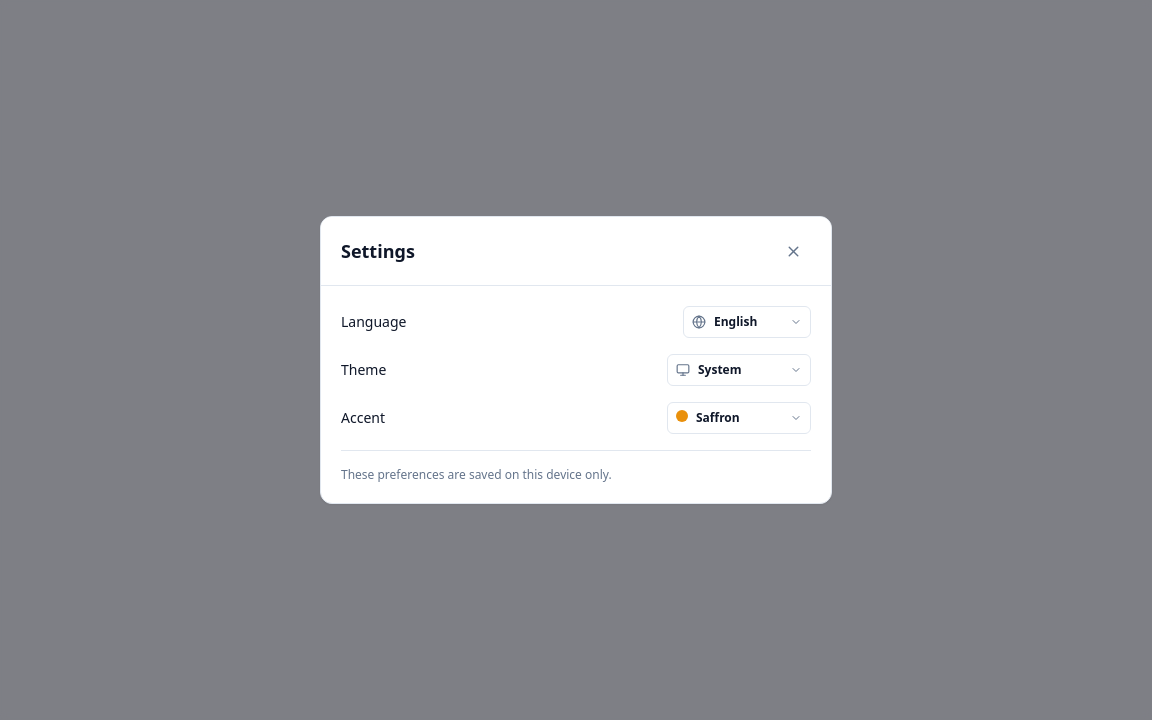
Scenario: SettingsDialog › applies a locale chosen inside the dialog
The image size is (1152, 720).
Step 1. Click the button with aria-label "Language: English" → [747, 322], box [683,306,811,338]
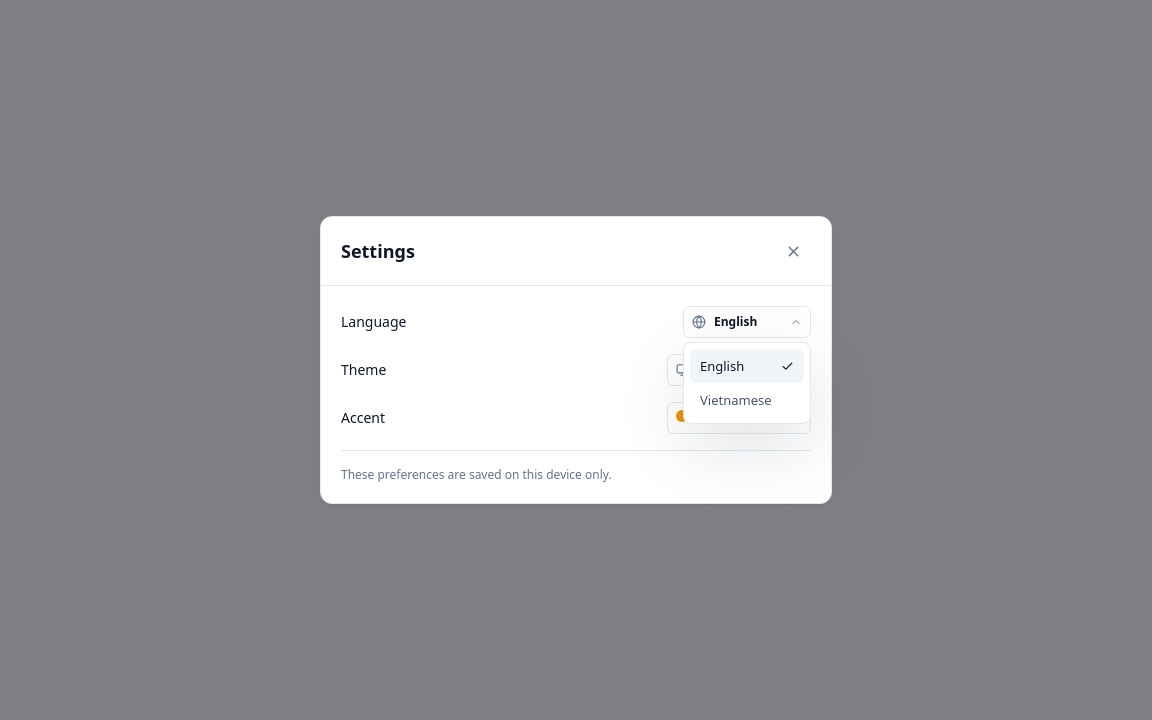
Step 2. Click the option "Vietnamese" → [747, 400], box [690,383,804,417]
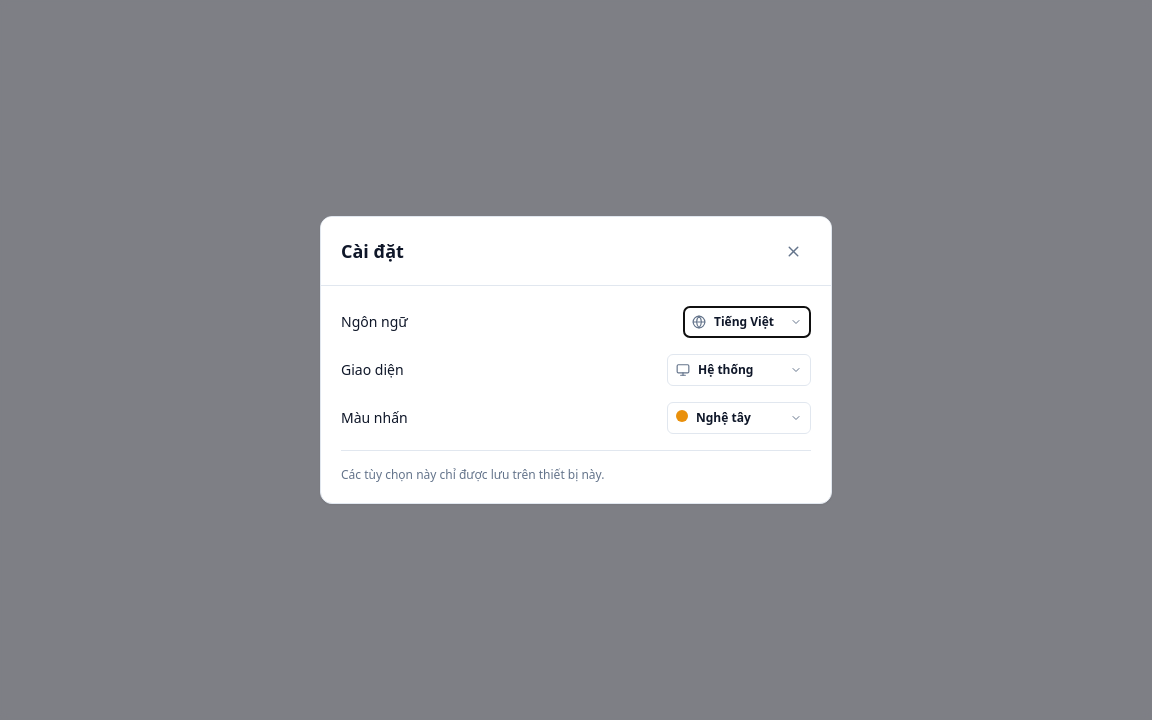
Check: the heading "Cài đặt" is shown, box [341,237,404,265]
